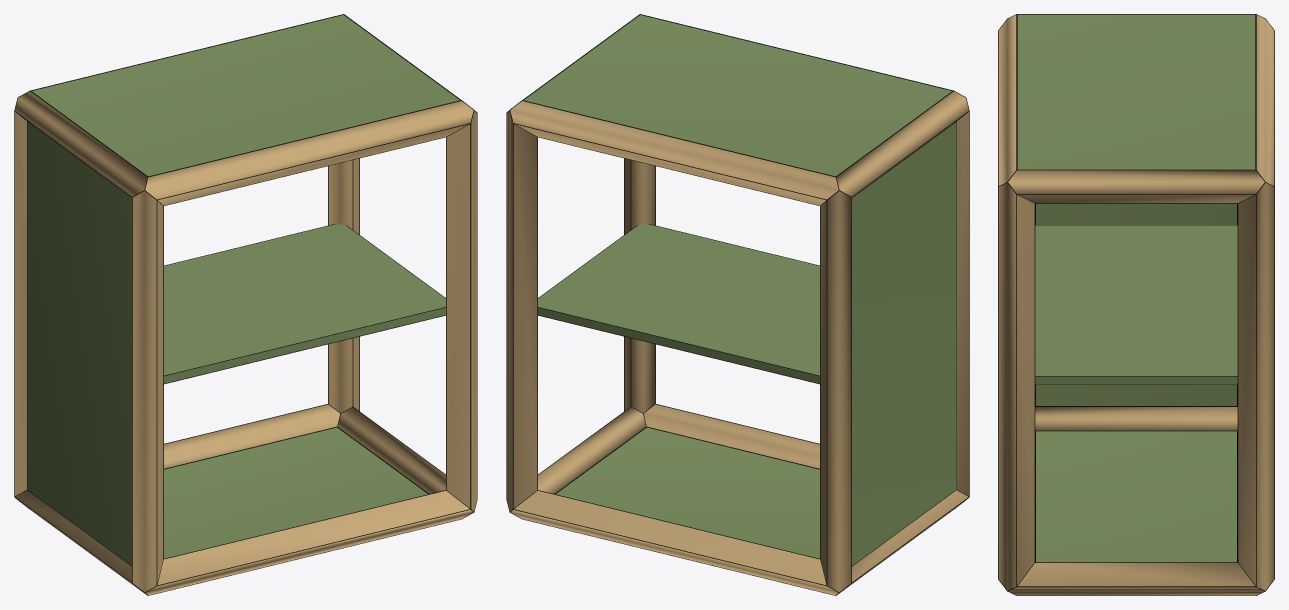
The model's file is buffet-600.glb.
The picture shows the model from 3 angles, left to right: view 1: azimuth 30°, elevation 25°; view 2: azimuth 150°, elevation 25°; view 3: azimuth 270°, elevation 25°; orthographic projection.
Visible parts, largest first — view 1: panneau-joue1, panneau-dessus_exterieur, mod-shelf-0, panneau-dessous, arete-Z0, arete-Z1, arete-X2, arete-X0, arete-Z2, arete-X1, arete-Z3, arete-Y2 (+9 smaller); view 2: panneau-joue1, panneau-dessus_exterieur, mod-shelf-0, panneau-dessous, arete-Z2, arete-Z3, arete-X3, arete-X1, arete-Z0, arete-X0, arete-Z1, arete-Y2 (+9 smaller); view 3: panneau-dessus_exterieur, mod-shelf-0, panneau-dessous, arete-Z1, arete-Z3, panneau-joue1, arete-Y3, arete-Y1, arete-Y0, arete-X2, arete-X3, arete-wire-Z1 (+7 smaller).
Boxes of the visible parts, box(x1,y1,x2,y2) form: panneau-joue1: box(27, 122, 131, 565); panneau-dessus_exterieur: box(32, 15, 459, 176); mod-shelf-0: box(164, 224, 445, 383); panneau-dessous: box(164, 427, 427, 558); arete-Z0: box(132, 191, 163, 592); arete-Z1: box(446, 111, 477, 511); arete-X2: box(145, 101, 473, 205); arete-X0: box(145, 490, 473, 595); arete-Z2: box(15, 112, 26, 495); arete-X1: box(164, 404, 339, 468); arete-Z3: box(328, 158, 359, 412); arete-Y2: box(15, 91, 147, 197); panneau-joue1: box(852, 122, 956, 565); panneau-dessus_exterieur: box(524, 15, 951, 176); mod-shelf-0: box(538, 224, 819, 383); panneau-dessous: box(556, 427, 819, 558); arete-Z2: box(820, 191, 851, 592); arete-Z3: box(506, 111, 537, 511); arete-X3: box(510, 101, 838, 205); arete-X1: box(510, 490, 838, 595); arete-Z0: box(957, 112, 968, 495); arete-X0: box(644, 404, 819, 468); arete-Z1: box(624, 158, 655, 412); arete-Y2: box(836, 91, 968, 197); panneau-dessus_exterieur: box(1017, 14, 1255, 169); mod-shelf-0: box(1035, 225, 1237, 384); panneau-dessous: box(1036, 431, 1236, 562); arete-Z1: box(998, 183, 1034, 590); arete-Z3: box(1238, 183, 1274, 590); panneau-joue1: box(1036, 203, 1236, 405); arete-Y3: box(1008, 170, 1264, 202); arete-Y1: box(1008, 563, 1264, 595); arete-Y0: box(1035, 407, 1237, 430); arete-X2: box(998, 15, 1016, 185); arete-X3: box(1256, 15, 1274, 185); arete-wire-Z1: box(998, 182, 1035, 586).
Size of the model in its own units: 0.6296 by 0.7296 by 0.4296.
